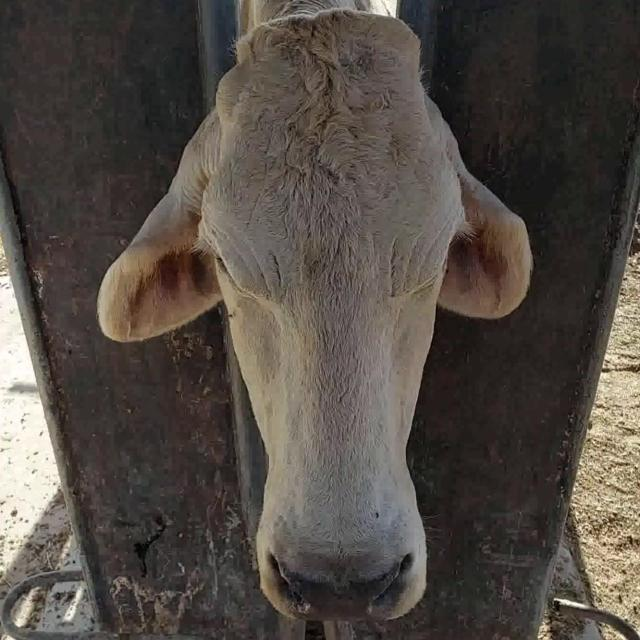cowFace: (198, 9, 464, 622)
